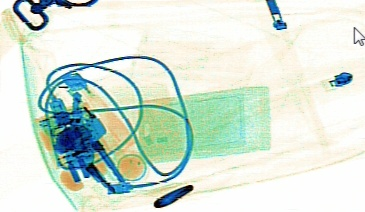lighter: (58, 71, 134, 155)
